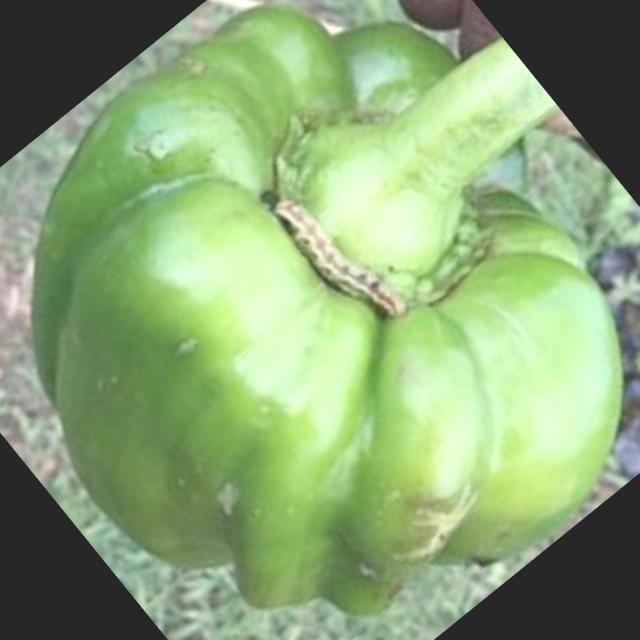Cotton bollworm: (228, 162, 429, 376)
